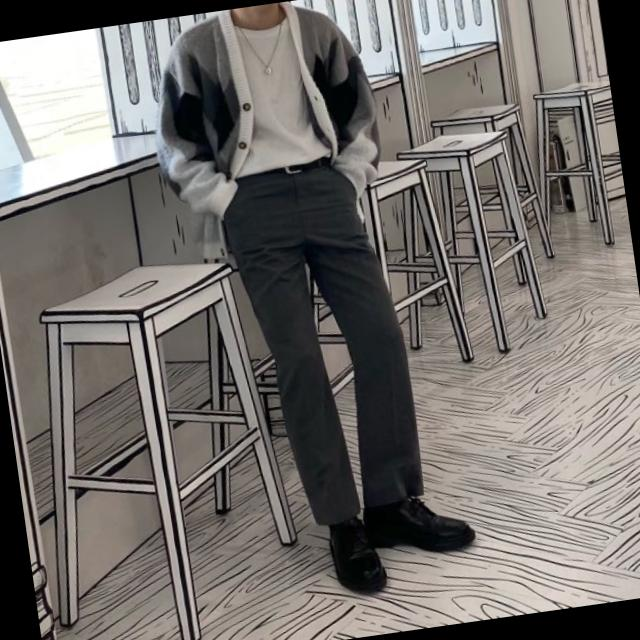cardigan: (141, 0, 396, 267)
slacks: (214, 154, 431, 536)
